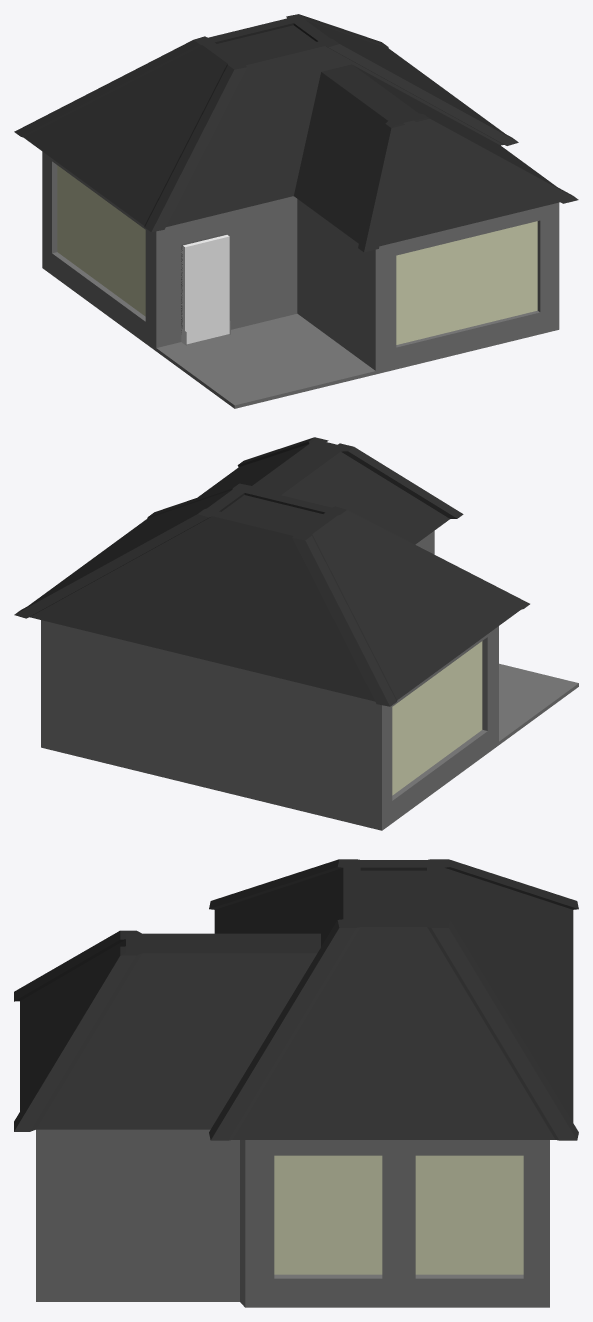
The model's file is asset_AaronsHouse01_UVunwrapped.fbx.
The picture shows the model from 3 angles, top to bottom: view 1: azimuth 30°, elevation 25°; view 2: azimuth 150°, elevation 25°; view 3: azimuth 270°, elevation 25°; orthographic projection. The views are drawn at different scales.
Parts seen in each view (by area): view 1: g_ceiling.003, g_house.001, CTRL_Hole; view 2: g_ceiling.003, g_house.001; view 3: g_ceiling.003, g_house.001.
Part boxes in pixels (x1,y1,x2,y2): g_ceiling.003: (14,14,578,252); g_house.001: (42,151,559,408); CTRL_Hole: (181,235,229,344); g_ceiling.003: (14,437,529,706); g_house.001: (41,531,578,830); g_ceiling.003: (14,859,578,1140); g_house.001: (36,1129,549,1307).
Size of the model in its own units: 1041 by 622 by 1037.
